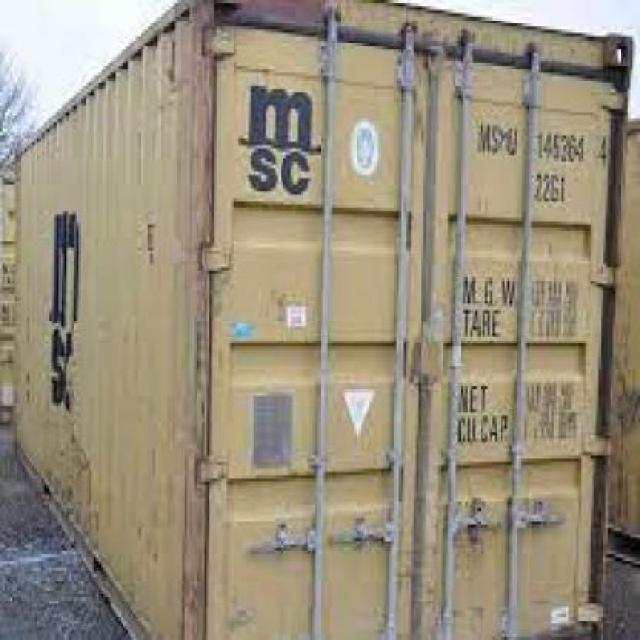ISO: (534, 170, 568, 206)
container_number: (482, 129, 608, 161)
